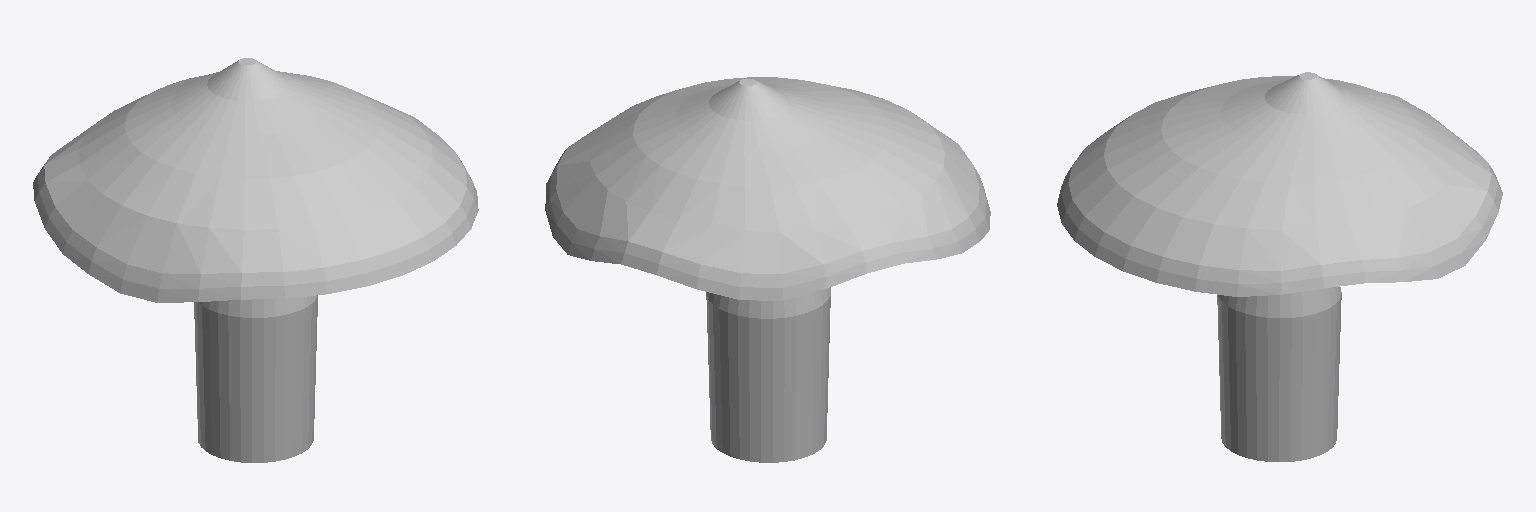
The model's file is mushroom1.obj.
3 views of the same model, side by side, from view 1: azimuth 30°, elevation 25°; view 2: azimuth 150°, elevation 25°; view 3: azimuth 270°, elevation 25° (orthographic).
Parts seen in each view (by area): view 1: Cylinder.004; view 2: Cylinder.004; view 3: Cylinder.004.
Part boxes in pixels (x1,y1,x2,y2): Cylinder.004: (33, 58, 478, 462); Cylinder.004: (545, 77, 990, 462); Cylinder.004: (1057, 72, 1502, 461).
Bounding box in the file's own units: 0.6684 × 0.6029 × 0.6667.